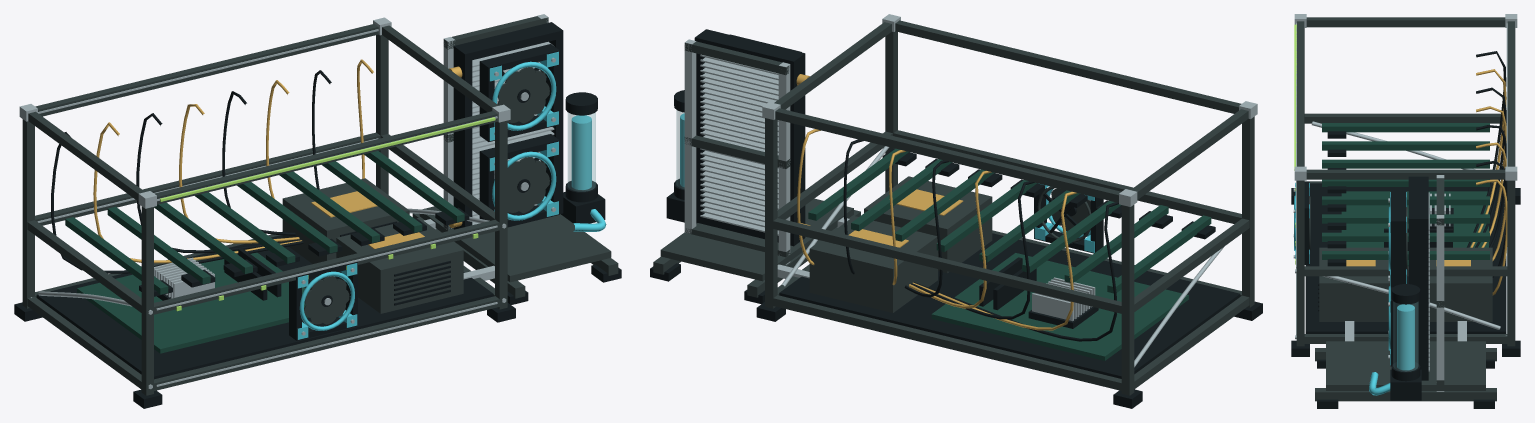
File: rig-runtime-8-none-liquid.glb
3 views of the same model, side by side, from view 1: azimuth 30°, elevation 25°; view 2: azimuth 150°, elevation 25°; view 3: azimuth 270°, elevation 25° (orthographic). The views are drawn at different scales.
Parts seen in each view (by area): view 1: Anodized graphite (×5), Rubber and ABS (×6), Circuit board, Brushed aluminium (×2), Coolant blue (×4), cooling-liquid, rig-runtime-8-none-liquid, Contacts, slot-cable-1, slot-cable-2, slot-cable-3, slot-cable-4 (+1 smaller); view 2: Anodized graphite (×2), Rubber and ABS (×4), Circuit board, Brushed aluminium (×2), Contacts, slot-cable-1, slot-cable-2, slot-cable-3, slot-cable-4, cooling-liquid, slot-cable-5, Coolant blue; view 3: Anodized graphite (×2), Rubber and ABS (×6), Circuit board, Brushed aluminium (×2), cooling-liquid, Coolant blue (×2), slot-cable-1, slot-cable-2, slot-cable-3, slot-cable-8, Contacts, slot-cable-4 (+4 smaller).
Part boxes in pixels (bbox=[...]): Anodized graphite (×5): bbox=[22, 16, 618, 395]; Rubber and ABS (×6): bbox=[14, 22, 621, 408]; Circuit board: bbox=[65, 151, 464, 353]; Brushed aluminium (×2): bbox=[19, 14, 554, 389]; Coolant blue (×4): bbox=[297, 51, 606, 339]; cooling-liquid: bbox=[568, 112, 595, 191]; rig-runtime-8-none-liquid: bbox=[160, 117, 495, 201]; Contacts: bbox=[311, 191, 424, 248]; slot-cable-1: bbox=[51, 132, 303, 273]; slot-cable-2: bbox=[93, 122, 301, 263]; slot-cable-3: bbox=[136, 113, 300, 253]; slot-cable-4: bbox=[179, 104, 299, 243]; Anodized graphite (×2): bbox=[653, 20, 1254, 395]; Rubber and ABS (×4): bbox=[650, 29, 1262, 408]; Circuit board: bbox=[808, 148, 1211, 360]; Brushed aluminium (×2): bbox=[684, 14, 1257, 367]; Contacts: bbox=[848, 189, 963, 247]; slot-cable-1: bbox=[913, 202, 1118, 341]; slot-cable-2: bbox=[912, 191, 1076, 330]; slot-cable-3: bbox=[911, 181, 1034, 319]; slot-cable-4: bbox=[909, 170, 991, 308]; cooling-liquid: bbox=[676, 110, 684, 188]; slot-cable-5: bbox=[904, 160, 948, 297]; Coolant blue: bbox=[1034, 183, 1094, 252]; Anodized graphite (×2): bbox=[1296, 17, 1515, 401]; Rubber and ABS (×6): bbox=[1291, 131, 1520, 408]; Circuit board: bbox=[1322, 123, 1489, 266]; Brushed aluminium (×2): bbox=[1294, 14, 1517, 391]; cooling-liquid: bbox=[1393, 302, 1418, 371]; Coolant blue (×2): bbox=[1369, 192, 1414, 395]; slot-cable-1: bbox=[1467, 51, 1506, 247]; slot-cable-2: bbox=[1470, 69, 1506, 247]; slot-cable-3: bbox=[1475, 87, 1506, 247]; slot-cable-8: bbox=[1476, 179, 1507, 295]; Contacts: bbox=[1346, 260, 1470, 266]; slot-cable-4: bbox=[1476, 106, 1506, 247].
Bounding box in the file's own units: 8.43 × 3.32 × 3.66.
